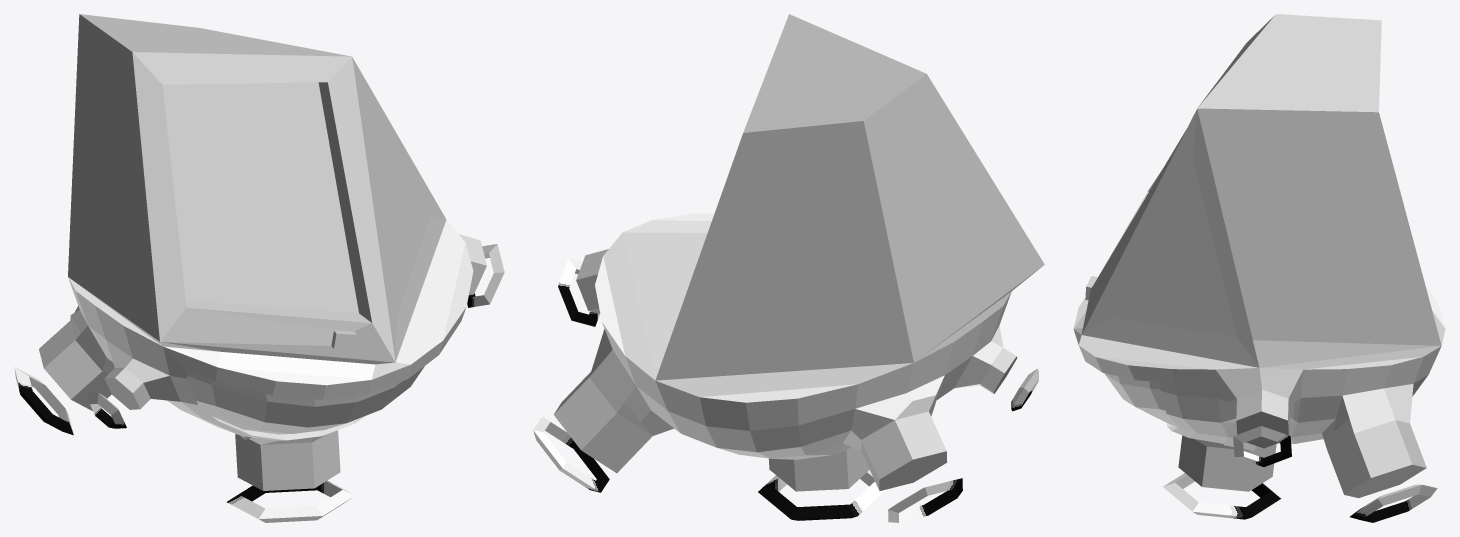
The model's file is Shapes4.glb.
3 renders of one model, left to right at view 1: azimuth 30°, elevation 25°; view 2: azimuth 150°, elevation 25°; view 3: azimuth 270°, elevation 25°, orthographic. The views are drawn at different scales.
Parts seen in each view (by area): view 1: Body.002, Body, Body.001, Cylinder.001, Cylinder.004, Cylinder.005, Cylinder.006; view 2: Body.002, Body, Cylinder.001, Cylinder.003, Cylinder.004, Cylinder.005; view 3: Body.002, Body, Body.001, Cylinder.001, Cylinder.003, Cylinder.005.
Boxes of the visible parts, bbox=[...] form: Body.002: bbox=[68, 14, 395, 364]; Body: bbox=[39, 220, 486, 490]; Body.001: bbox=[352, 57, 446, 361]; Cylinder.001: bbox=[227, 480, 355, 522]; Cylinder.004: bbox=[14, 367, 73, 435]; Cylinder.005: bbox=[467, 244, 504, 307]; Cylinder.006: bbox=[86, 392, 126, 428]; Body.002: bbox=[655, 14, 1044, 380]; Body: bbox=[553, 213, 1017, 491]; Cylinder.001: bbox=[758, 469, 885, 520]; Cylinder.003: bbox=[533, 416, 609, 492]; Cylinder.004: bbox=[888, 478, 962, 522]; Cylinder.005: bbox=[558, 259, 599, 326]; Body.002: bbox=[1081, 14, 1441, 345]; Body: bbox=[1073, 285, 1445, 498]; Body.001: bbox=[1082, 109, 1259, 367]; Cylinder.001: bbox=[1163, 473, 1280, 519]; Cylinder.003: bbox=[1350, 484, 1437, 522]; Cylinder.005: bbox=[1233, 426, 1291, 466].
Size of the model in its own units: 1.68 by 1.75 by 1.36.
Materials: 2 (1 with a texture image).
